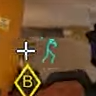hacks_2: (42, 38, 57, 64)
